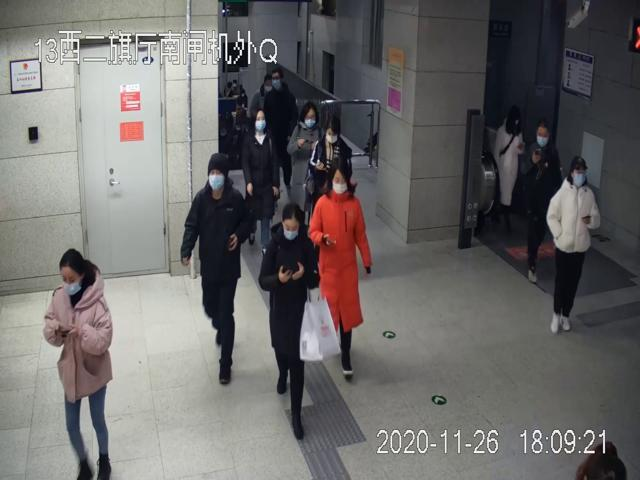person: (44, 249, 116, 480), (181, 152, 247, 386), (258, 202, 321, 441), (309, 158, 372, 378), (546, 155, 600, 334), (519, 119, 562, 283), (240, 109, 282, 260), (286, 101, 323, 216)
